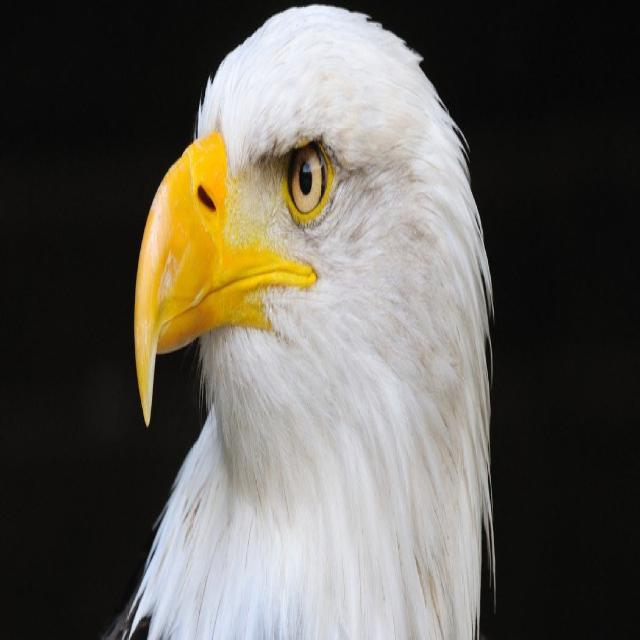Eagle: (119, 1, 489, 640)
